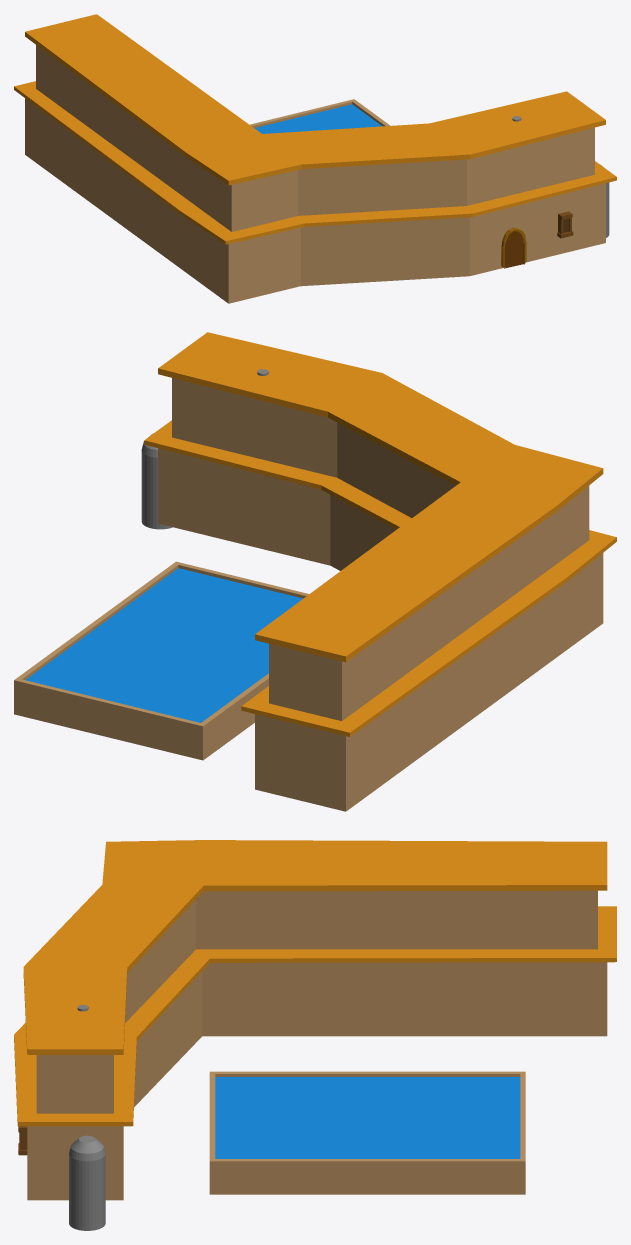
Rendered from Pool_House.fbx.
3 views of the same model, one above another, from view 1: azimuth 30°, elevation 25°; view 2: azimuth 150°, elevation 25°; view 3: azimuth 270°, elevation 25° (orthographic). The views are drawn at different scales.
Visible parts, largest first — view 1: Cube, Cube.466; view 2: Cube, Cylinder.002; view 3: Cube, Cylinder.002.
Part boxes in pixels (left/top/right/bottom): Cube: left=14, top=14, right=616, bottom=303; Cube.466: left=501, top=227, right=526, bottom=268; Cube: left=14, top=332, right=616, bottom=811; Cylinder.002: left=141, top=433, right=172, bottom=529; Cube: left=14, top=840, right=616, bottom=1200; Cylinder.002: left=69, top=1135, right=105, bottom=1230.
Size of the model in its own units: 2949 by 1066 by 3284.
